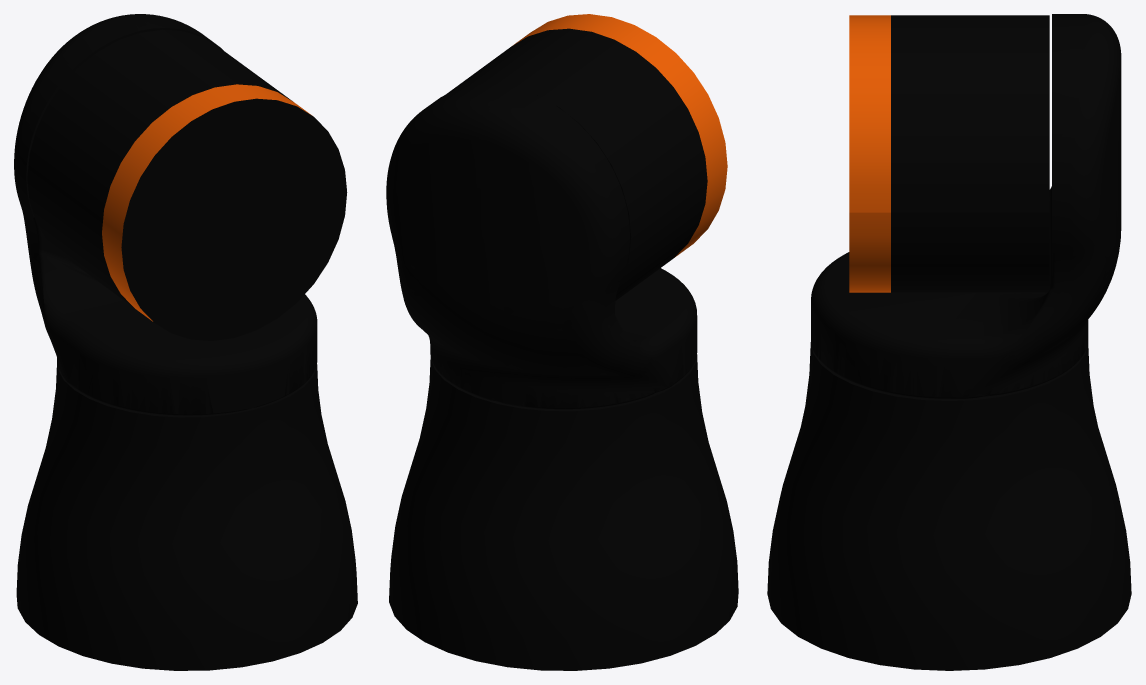
The model's file is Joint4.dae.
3 renders of one model, left to right at view 1: azimuth 30°, elevation 25°; view 2: azimuth 150°, elevation 25°; view 3: azimuth 270°, elevation 25°, orthographic. The views are drawn at different scales.
Parts seen in each view (by area): view 1: Object-1; view 2: Object-1; view 3: Object-1.
Part boxes in pixels (box(x1,y1,x2,y2)): Object-1: box(14, 14, 357, 670); Object-1: box(386, 14, 738, 670); Object-1: box(767, 14, 1131, 670).
Bounding box in the file's own units: 0.105 × 0.105 × 0.1804.
